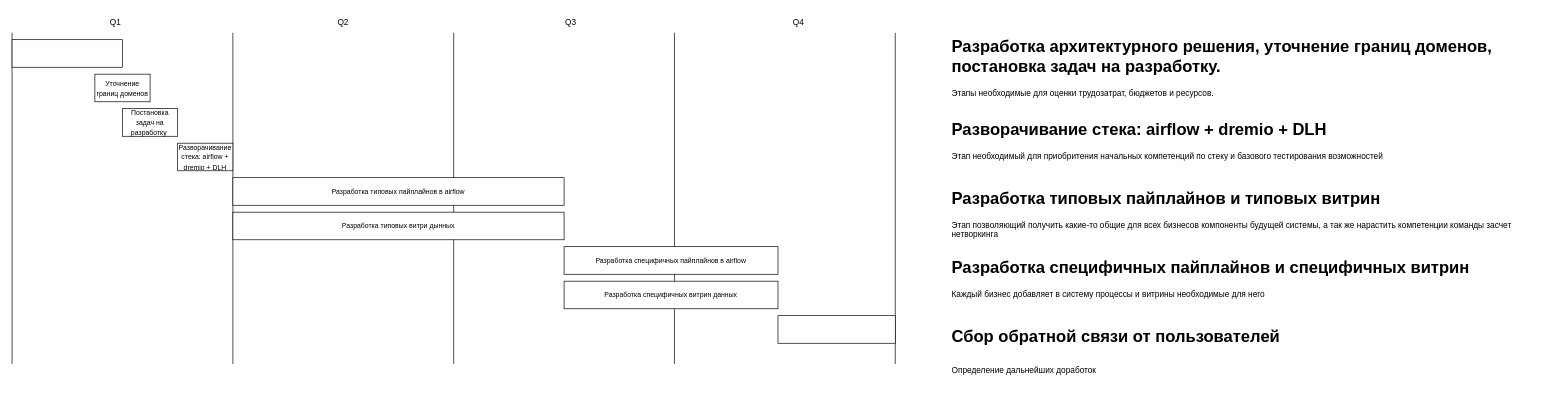
Image size: 1563x405. Some labels were removed from this diagram. The shapes that lost their labels are listed below. From the top down, each one's centre as x and y in pixels, then its label:
[66,53]: Разработка архитектурного решения
[836,329]: Сбор обратной связи от пользователей
